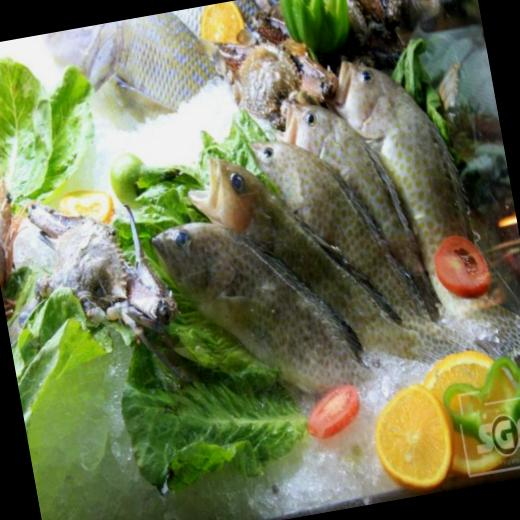Grape: (417, 344, 520, 483), (368, 380, 464, 496), (195, 0, 250, 51)
